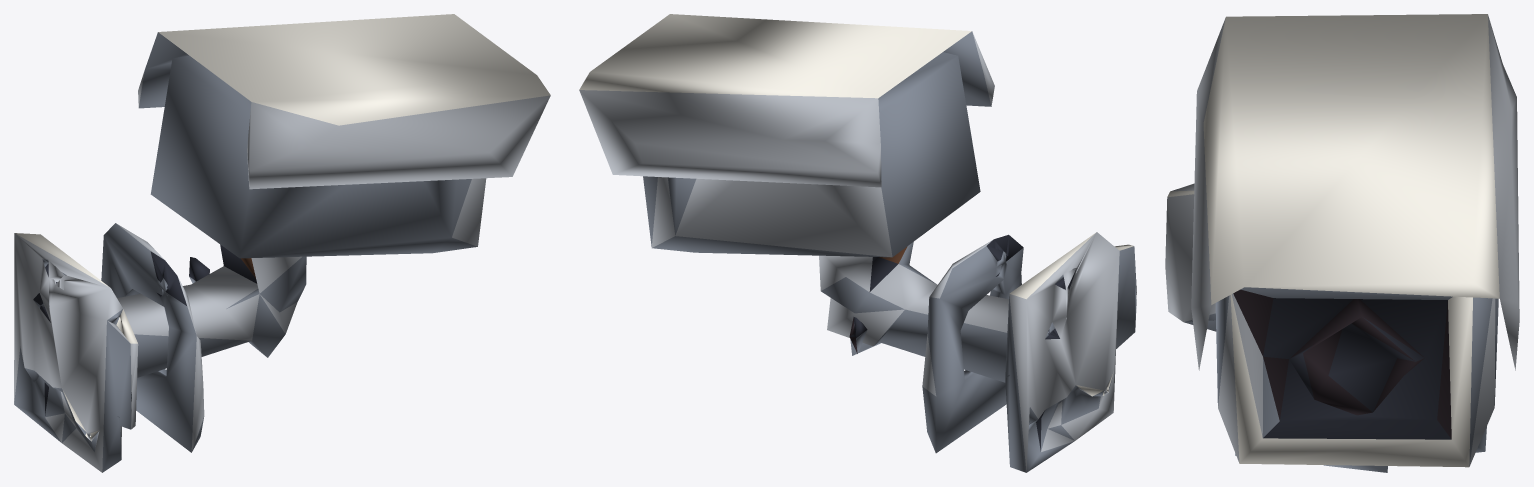
Rendered from SM_cctv_camera.fbx.
3 renders of one model, left to right at view 1: azimuth 30°, elevation 25°; view 2: azimuth 150°, elevation 25°; view 3: azimuth 270°, elevation 25°, orthographic. The views are drawn at different scales.
Visible parts, largest first — view 1: SM_cctv_camera; view 2: SM_cctv_camera; view 3: SM_cctv_camera.
Boxes of the visible parts, x1,y1,x2,y2 form: SM_cctv_camera: (14, 14, 550, 472); SM_cctv_camera: (579, 14, 1136, 472); SM_cctv_camera: (1165, 14, 1519, 472).
Bounding box in the file's own units: 37.94 × 28 × 18.72.
1 material, 1 textured.
